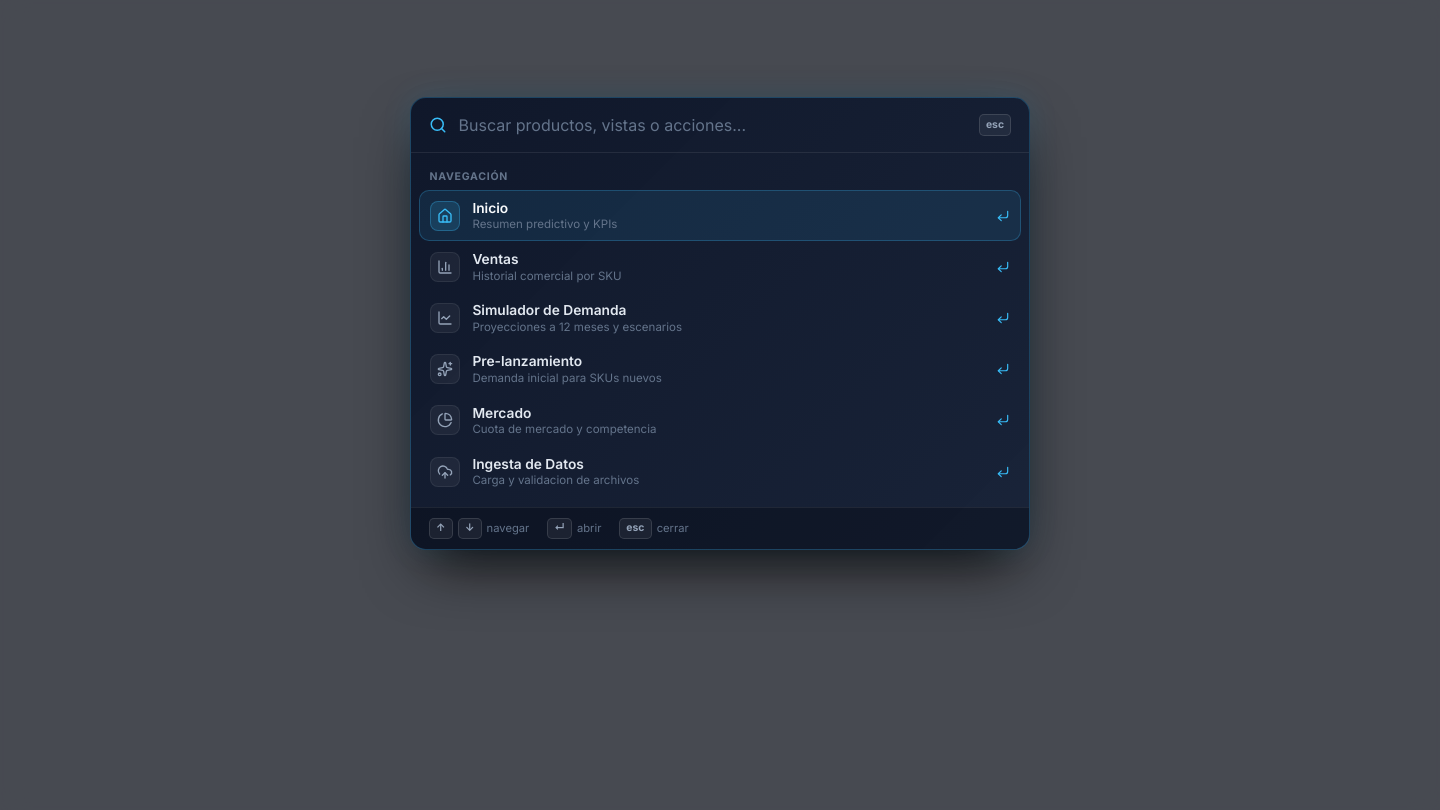
Test: CommandPalette › busqueda › encuentra un producto del catalogo por SKU
Type "SKU-002" into the field with placeholder "Buscar productos, vistas o acciones...". click: point(713, 125)
box: [459,115,966,135]
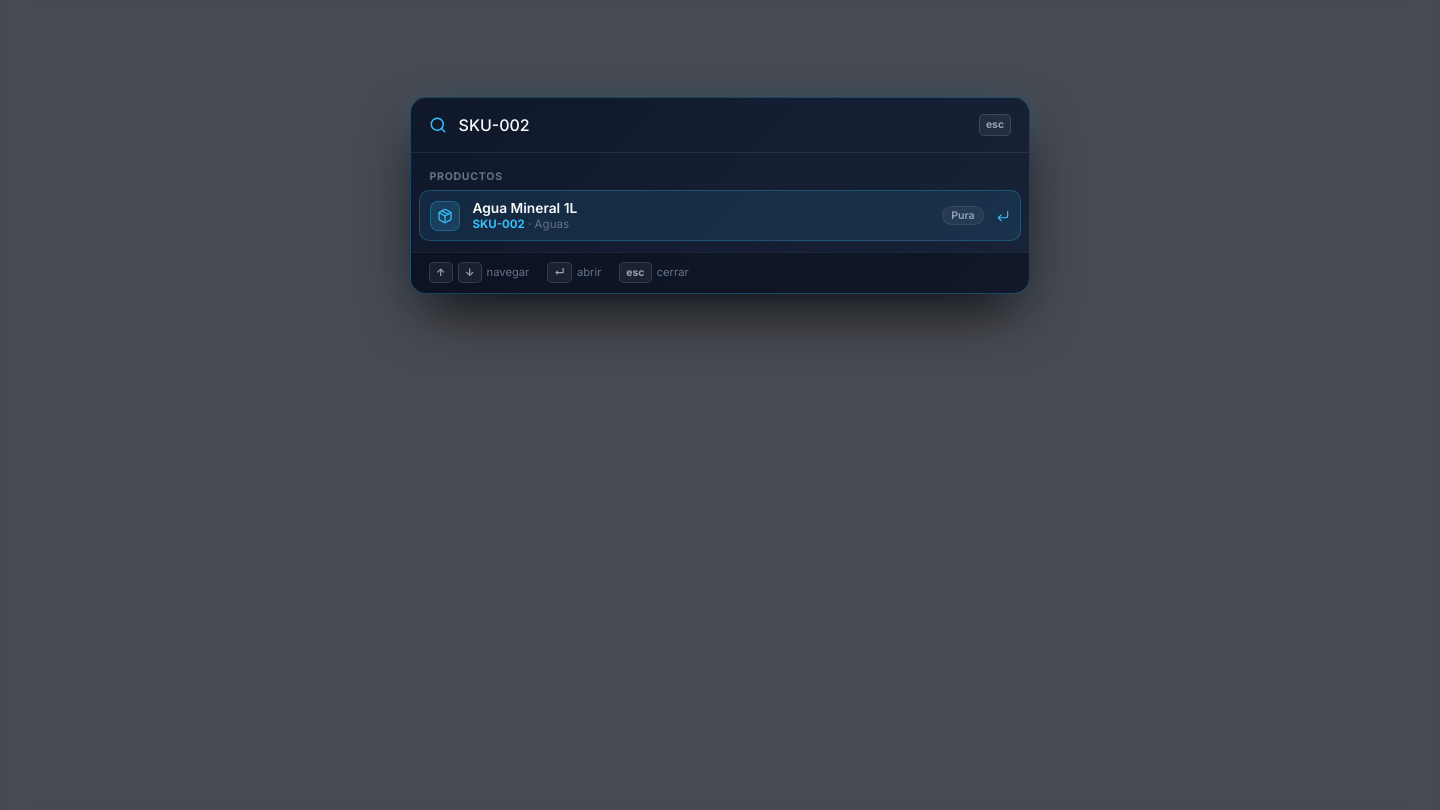
Result: the text "Agua Mineral 1L" is shown at [472,200,577,216]
